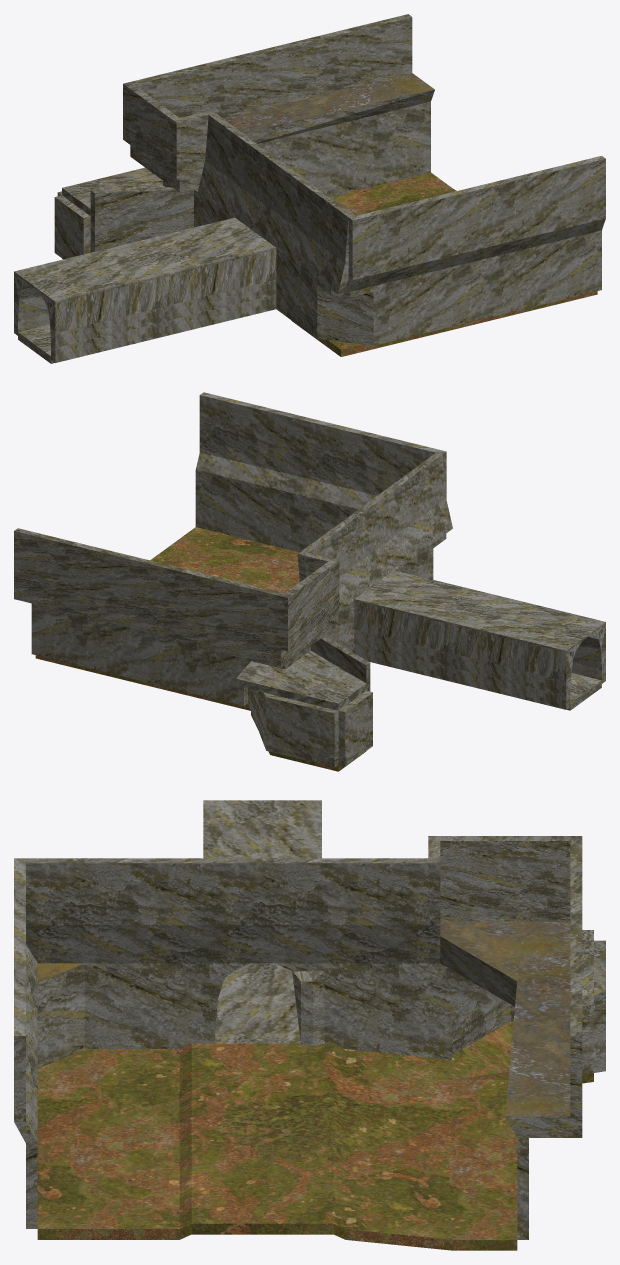
File: caveentrance.obj
3 renders of one model, top to bottom at view 1: azimuth 30°, elevation 25°; view 2: azimuth 150°, elevation 25°; view 3: azimuth 270°, elevation 25°, orthographic. The views are drawn at different scales.
Visible parts, largest first — view 1: entity0_brush4, entity0_brush48, entity0_brush0, entity0_brush20, entity0_brush7, entity0_brush19, entity0_brush40, entity0_brush38, entity0_brush45, entity0_brush57, entity0_brush18, entity0_brush17 (+19 smaller); view 2: entity0_brush48, entity0_brush4, entity0_brush20, entity0_brush38, entity0_brush0, entity0_brush7, entity0_brush26, entity0_brush1, entity0_brush39, entity0_brush43, entity0_brush49, entity0_brush24 (+18 smaller); view 3: entity0_brush7, entity0_brush2, entity0_brush1, entity0_brush33, entity0_brush41, entity0_brush49, entity0_brush34, entity0_brush6, entity0_brush57, entity0_brush58, entity0_brush47, entity0_brush20 (+21 smaller).
Part boxes in pixels (x1,y1,x2,y2): entity0_brush4: (348,156,605,279); entity0_brush48: (131,14,412,118); entity0_brush0: (373,230,601,345); entity0_brush20: (14,217,276,303); entity0_brush7: (205,110,355,262); entity0_brush19: (50,249,276,333); entity0_brush40: (90,187,193,252); entity0_brush38: (288,131,430,196); entity0_brush45: (258,101,430,166); entity0_brush57: (224,73,430,132); entity0_brush18: (51,294,276,362); entity0_brush17: (51,279,276,348); entity0_brush48: (14,528,284,649); entity0_brush4: (199,392,446,498); entity0_brush20: (354,570,605,652); entity0_brush38: (31,615,247,705); entity0_brush0: (195,469,357,552); entity0_brush7: (297,453,445,581); entity0_brush26: (354,601,571,681); entity0_brush1: (150,527,299,593); entity0_brush39: (266,694,338,767); entity0_brush43: (263,650,366,710); entity0_brush49: (281,561,335,651); entity0_brush24: (354,629,570,695); entity0_brush7: (26,858,440,925); entity0_brush2: (191,1043,333,1234); entity0_brush1: (37,1049,179,1239); entity0_brush33: (345,1069,451,1250); entity0_brush41: (322,963,451,1059); entity0_brush49: (440,836,582,921); entity0_brush34: (452,1079,517,1250); entity0_brush6: (85,963,203,1048); entity0_brush57: (517,981,582,1137); entity0_brush58: (440,921,570,1006); entity0_brush47: (85,939,440,958); entity0_brush20: (203,800,321,858).
Size of the model in its own units: 2176 by 704 by 1600.
Materials: 3 (3 with a texture image).
